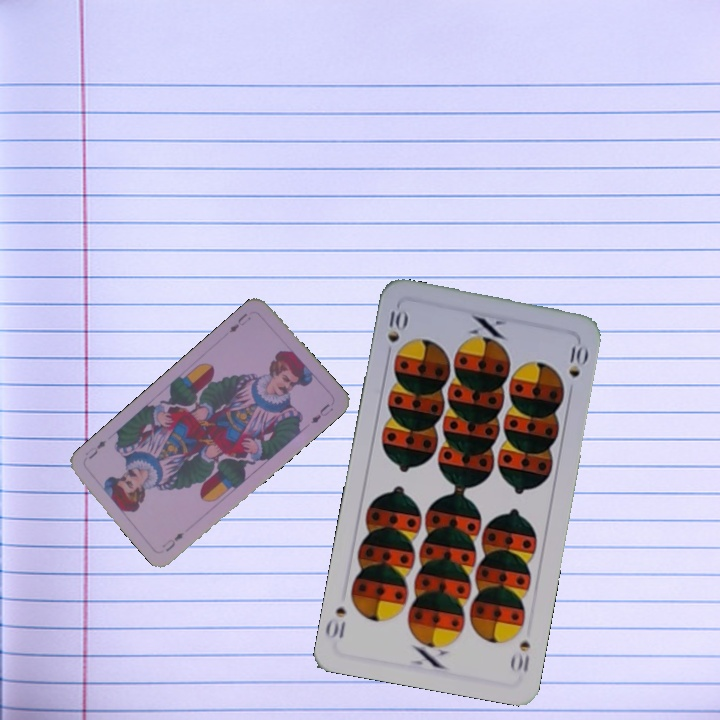EU: (225, 309, 253, 336), (158, 528, 187, 554)
S10: (382, 302, 410, 361), (507, 636, 533, 675)
